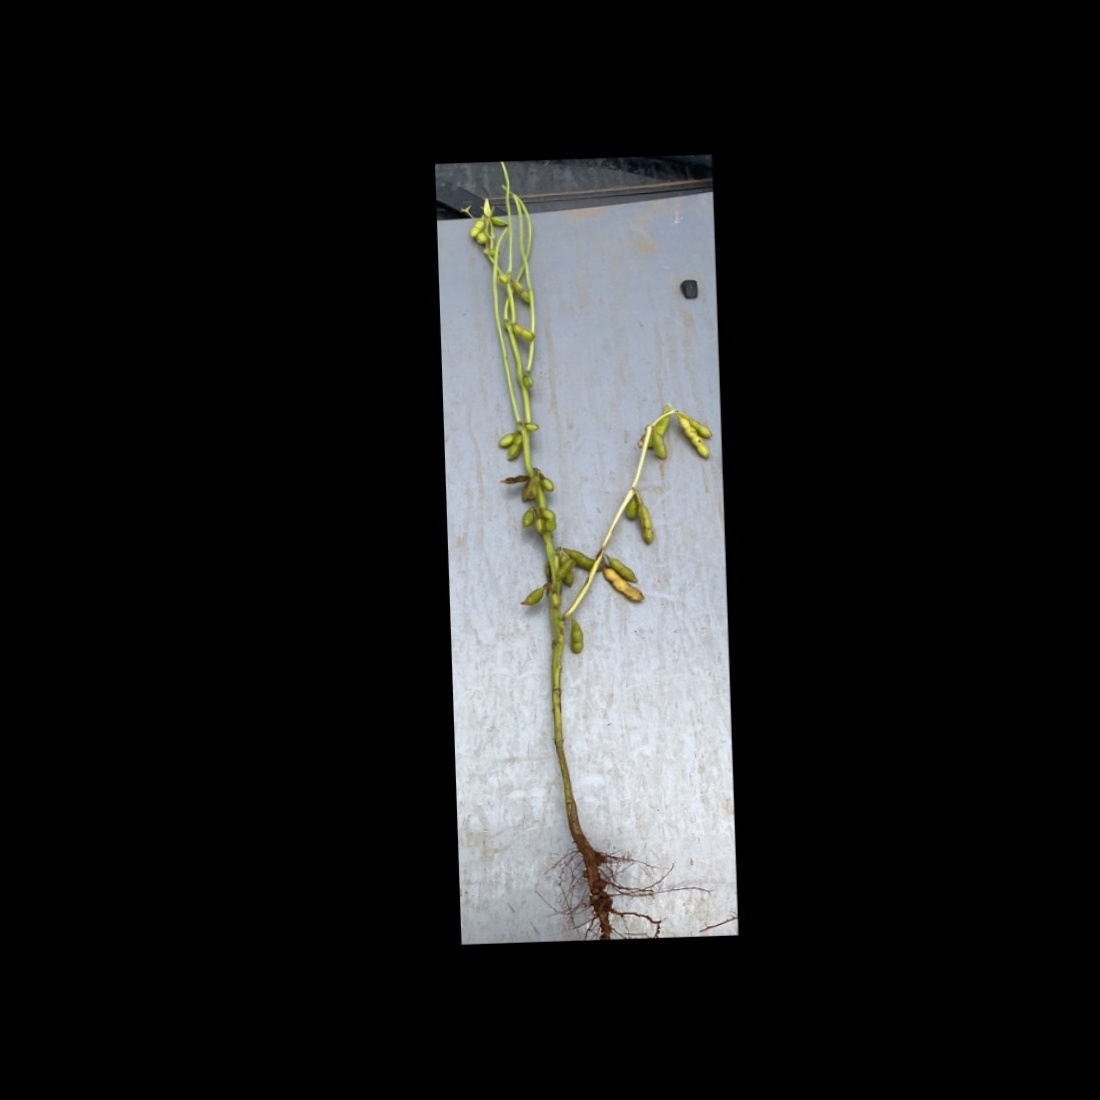pod: (518, 581, 551, 610), (636, 504, 656, 551), (507, 317, 538, 343), (564, 616, 584, 655), (652, 429, 670, 466), (513, 276, 535, 306), (516, 506, 539, 528), (543, 509, 560, 533), (497, 472, 530, 485), (489, 214, 511, 229)
soy: (454, 164, 731, 902)
